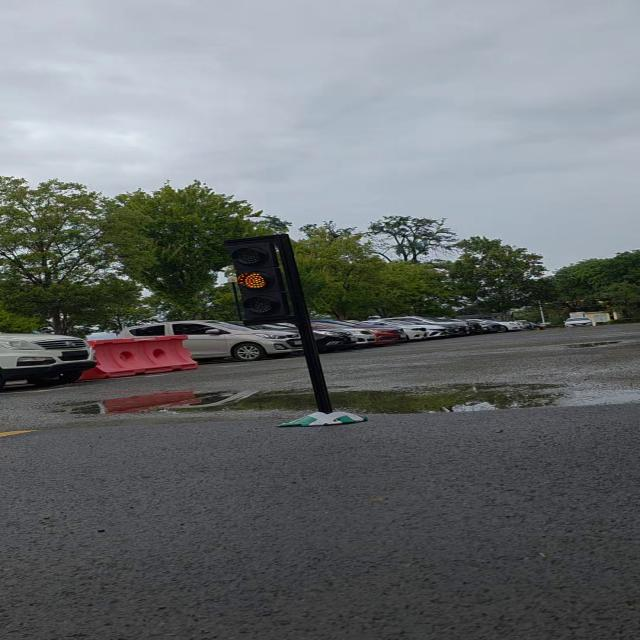yellow: (218, 230, 302, 330)
